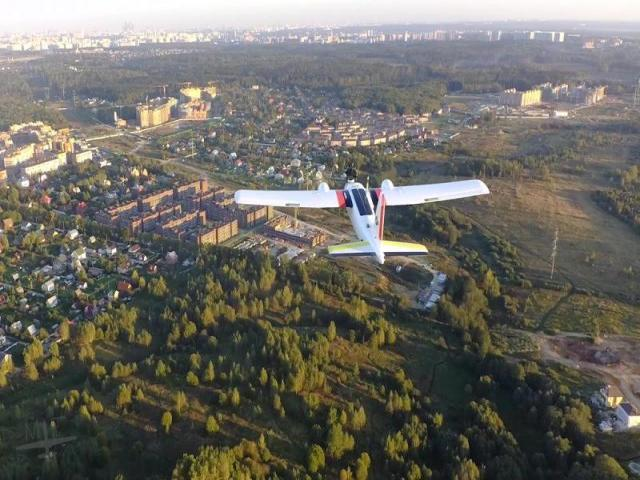hedef: (230, 169, 512, 276)
